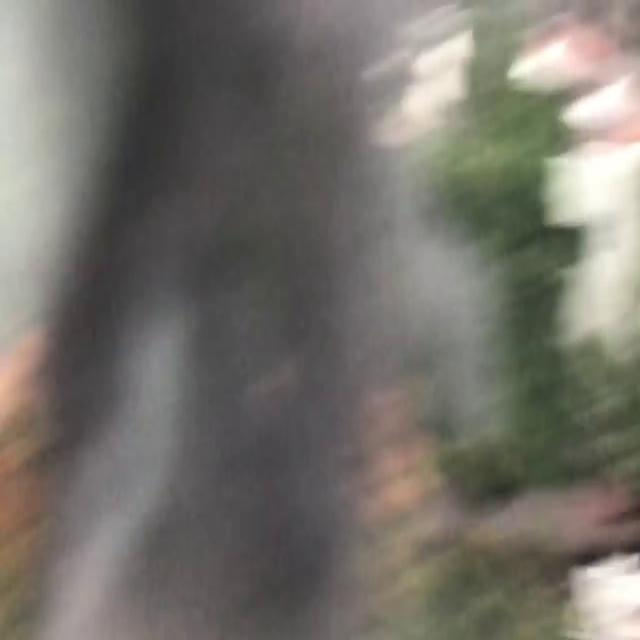Smoke: (1, 0, 572, 637)
